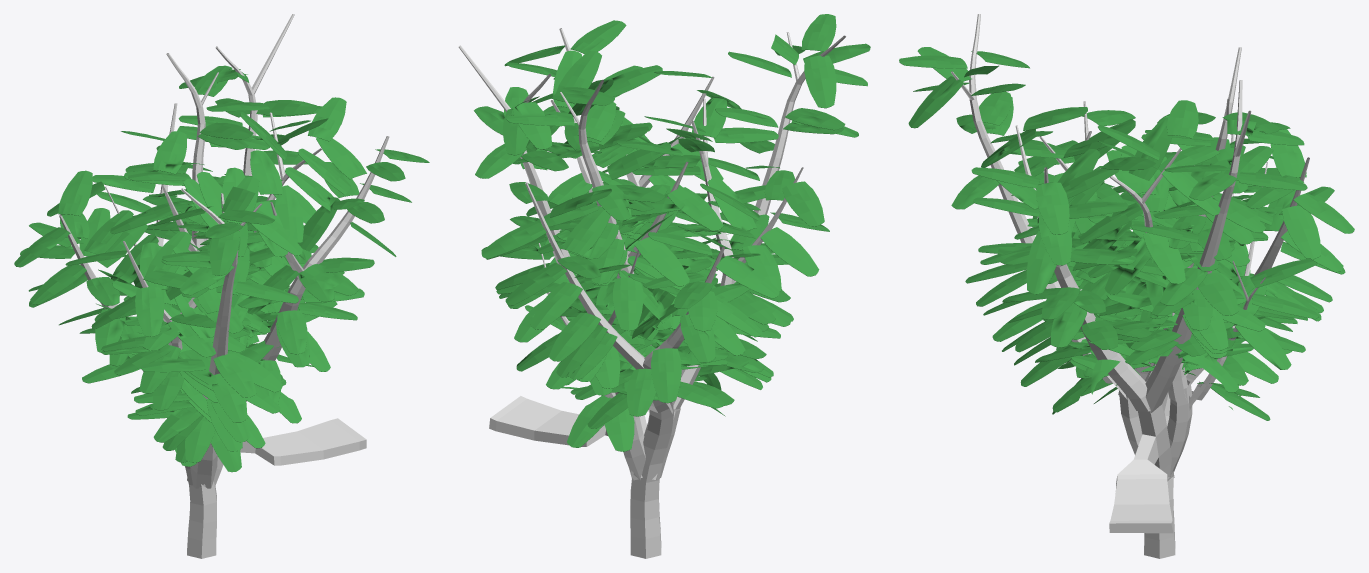
Rendered from SecretTreeJump.fbx.
3 views of the same model, side by side, from view 1: azimuth 30°, elevation 25°; view 2: azimuth 150°, elevation 25°; view 3: azimuth 270°, elevation 25° (orthographic). The views are drawn at different scales.
Visible parts, largest first — view 1: Cube.001, LeafTree, STub; view 2: Cube.001, LeafTree, STub; view 3: Cube.001, LeafTree, STub.
Boxes of the visible parts, bbox=[...] form: Cube.001: bbox=[14, 65, 429, 472]; LeafTree: bbox=[59, 14, 389, 401]; STub: bbox=[167, 418, 366, 558]; Cube.001: bbox=[474, 14, 870, 451]; LeafTree: bbox=[458, 28, 845, 414]; STub: bbox=[489, 392, 680, 558]; Cube.001: bbox=[899, 47, 1354, 420]; LeafTree: bbox=[951, 14, 1309, 412]; STub: bbox=[1109, 380, 1201, 558].
Size of the model in its own units: 253 by 344 by 278.
